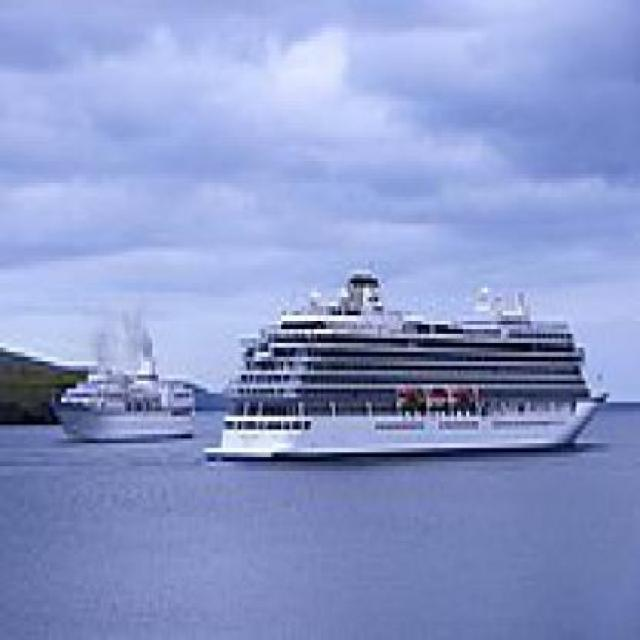cruise: (208, 252, 626, 476)
